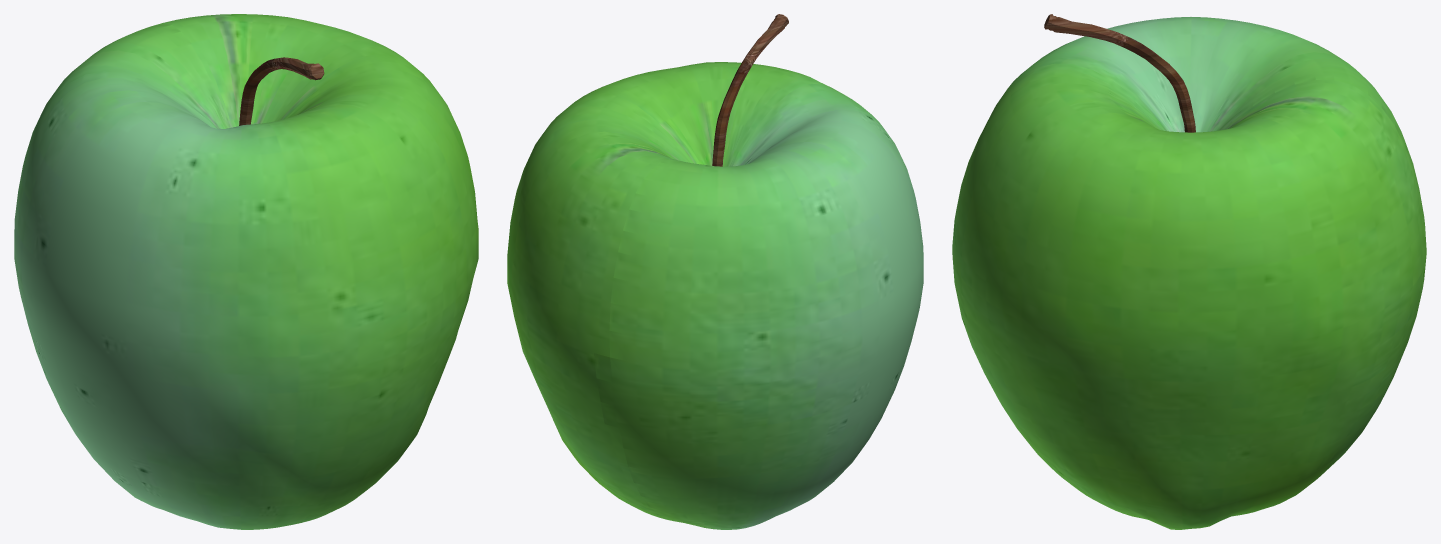
File: zapple.fbx
3 views of the same model, side by side, from view 1: azimuth 30°, elevation 25°; view 2: azimuth 150°, elevation 25°; view 3: azimuth 270°, elevation 25° (orthographic). The views are drawn at different scales.
Visible parts, largest first — view 1: polySurface1; view 2: polySurface1; view 3: polySurface1.
Boxes of the visible parts, bbox=[...] form: polySurface1: bbox=[14, 14, 478, 529]; polySurface1: bbox=[507, 14, 923, 529]; polySurface1: bbox=[952, 14, 1426, 529].
Bounding box in the file's own units: 0.6538 × 0.7756 × 0.6895.
2 materials, 2 textured.
